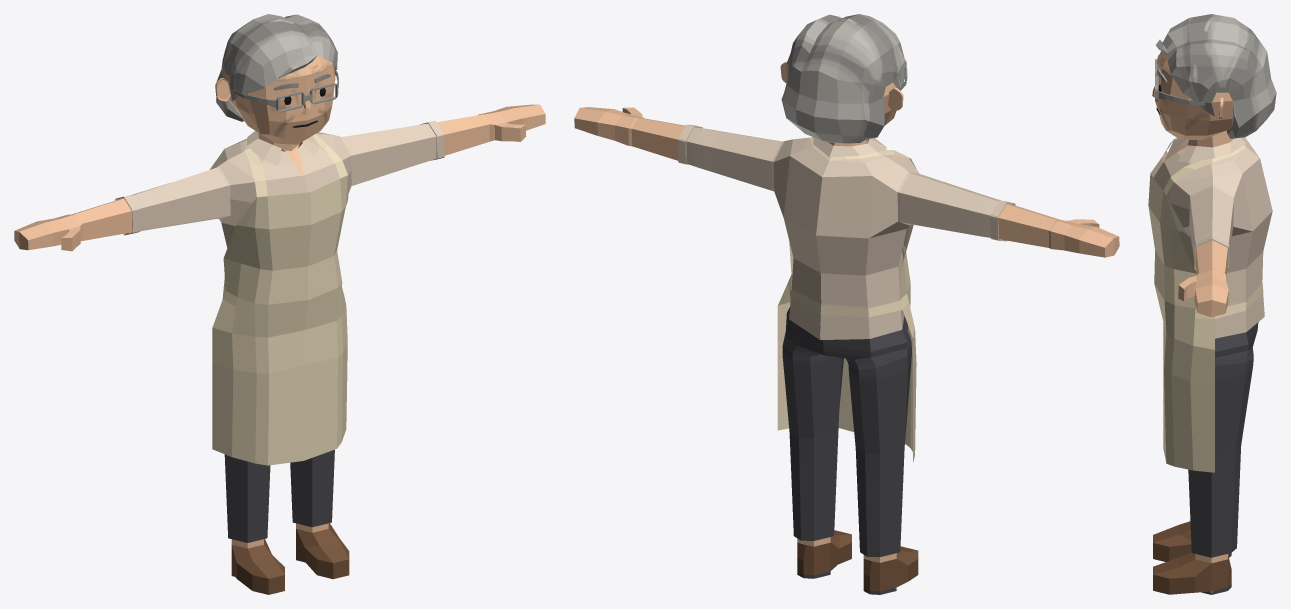
File: npc_cora2.fbx
3 renders of one model, left to right at view 1: azimuth 30°, elevation 25°; view 2: azimuth 150°, elevation 25°; view 3: azimuth 270°, elevation 25°, orthographic. The views are drawn at different scales.
Parts seen in each view (by area): view 1: apron, body, shirt, hair, head, glasses; view 2: body, shirt, hair, apron; view 3: body, apron, shirt, hair, head, glasses.
Boxes of the visible parts, bbox=[...] form: apron: bbox=[212, 134, 348, 465]; body: bbox=[14, 104, 545, 594]; shirt: bbox=[115, 120, 444, 247]; hair: bbox=[216, 14, 337, 121]; head: bbox=[224, 55, 335, 144]; glasses: bbox=[234, 70, 338, 112]; body: bbox=[574, 107, 1119, 594]; shirt: bbox=[678, 124, 1015, 339]; hair: bbox=[781, 14, 906, 143]; apron: bbox=[777, 137, 916, 462]; body: bbox=[1153, 130, 1258, 594]; apron: bbox=[1148, 138, 1263, 472]; shirt: bbox=[1153, 137, 1272, 338]; hair: bbox=[1155, 14, 1276, 138]; head: bbox=[1152, 51, 1232, 139]; glasses: bbox=[1155, 59, 1204, 105].
Size of the model in its own units: 642 by 642 by 136.
